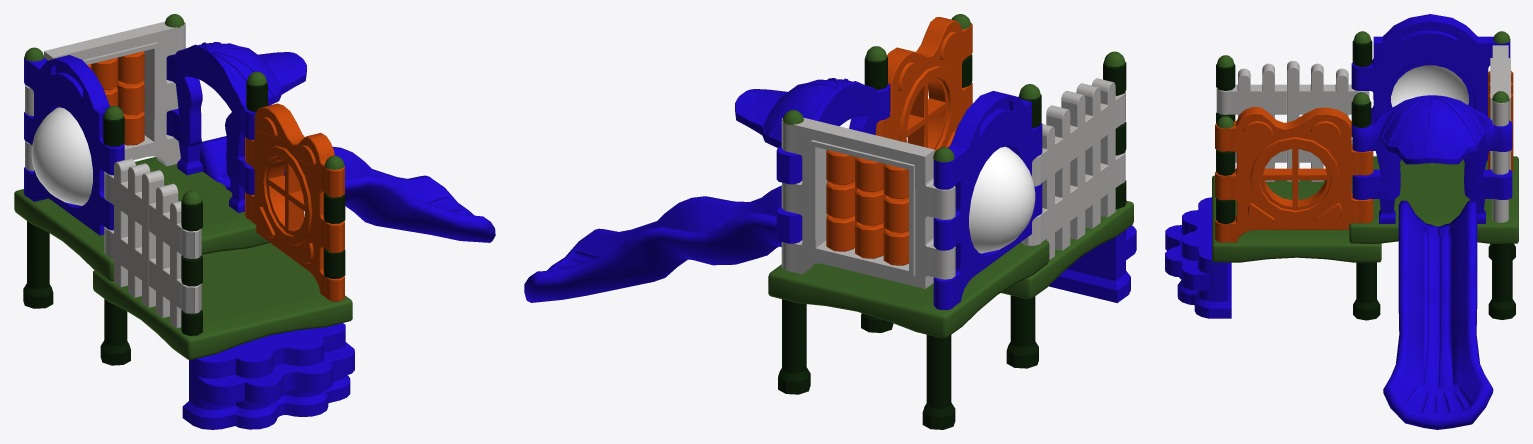
3 views of the same model, side by side, from view 1: azimuth 30°, elevation 25°; view 2: azimuth 150°, elevation 25°; view 3: azimuth 270°, elevation 25° (orthographic). The views are drawn at different scales.
Visible parts, largest first — view 1: Box001, Shape002, Shape004, Shape006, Shape009, Loft001, Shape005, Box002, Shape007, Sphere001, Cylinder012, Cylinder011 (+11 smaller); view 2: Loft001, Shape007, Shape006, Box002, Shape005, Shape004, Shape009, Sphere001, Shape002, Box001, Cylinder012, Cylinder013 (+11 smaller); view 3: Loft001, Shape004, Shape009, Shape005, Box002, Shape006, Box001, Shape002, Shape007, Sphere001, Cylinder013, Cylinder010 (+5 smaller).
Part boxes in pixels (<box>): Box001: <box>93,243,352,359</box>; Shape002: <box>182,323,354,429</box>; Shape004: <box>245,103,344,301</box>; Shape006: <box>104,158,201,328</box>; Shape009: <box>166,42,306,212</box>; Loft001: <box>199,136,495,242</box>; Shape005: <box>24,55,124,235</box>; Box002: <box>14,157,269,281</box>; Shape007: <box>25,21,185,170</box>; Sphere001: <box>31,107,92,205</box>; Cylinder012: <box>23,221,53,308</box>; Cylinder011: <box>100,299,130,365</box>; Loft001: <box>524,185,781,302</box>; Shape007: <box>781,117,955,288</box>; Shape006: <box>1021,78,1125,260</box>; Box002: <box>768,240,1049,338</box>; Shape005: <box>933,91,1042,309</box>; Shape004: <box>875,17,972,151</box>; Shape009: <box>735,78,890,243</box>; Sphere001: <box>969,146,1035,253</box>; Shape002: <box>1049,225,1136,303</box>; Box001: <box>1001,200,1133,299</box>; Cylinder012: <box>922,334,955,429</box>; Cylinder013: <box>778,299,810,394</box>; Loft001: <box>1383,200,1493,429</box>; Shape004: <box>1215,107,1373,242</box>; Shape009: <box>1352,95,1512,223</box>; Shape005: <box>1351,14,1510,161</box>; Box002: <box>1349,156,1518,243</box>; Shape006: <box>1216,61,1369,181</box>; Box001: <box>1212,175,1381,262</box>; Shape002: <box>1165,197,1231,318</box>; Shape007: <box>1490,45,1510,222</box>; Sphere001: <box>1391,65,1468,107</box>; Cylinder013: <box>1488,243,1515,319</box>; Cylinder010: <box>1353,262,1380,320</box>.
Bounding box in the file's own units: 214 × 125 × 168.
